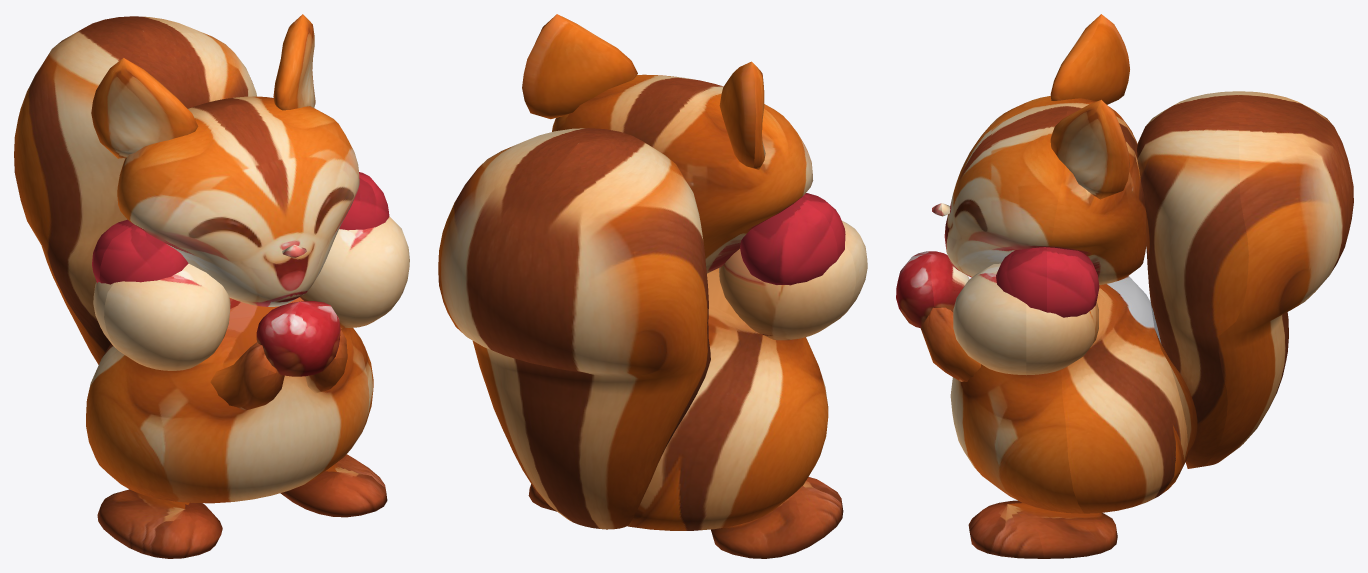
The model's file is puffmunk.glb.
3 views of the same model, side by side, from view 1: azimuth 30°, elevation 25°; view 2: azimuth 150°, elevation 25°; view 3: azimuth 270°, elevation 25° (orthographic). The views are drawn at different scales.
Visible parts, largest first — view 1: puffmunk; view 2: puffmunk; view 3: puffmunk.
Part boxes in pixels (bbox=[...]): puffmunk: bbox=[14, 14, 409, 558]; puffmunk: bbox=[438, 14, 867, 558]; puffmunk: bbox=[896, 14, 1353, 558].
Size of the model in its own units: 0.3002 by 0.448 by 0.4119.
Materials: 1 (1 with a texture image).
